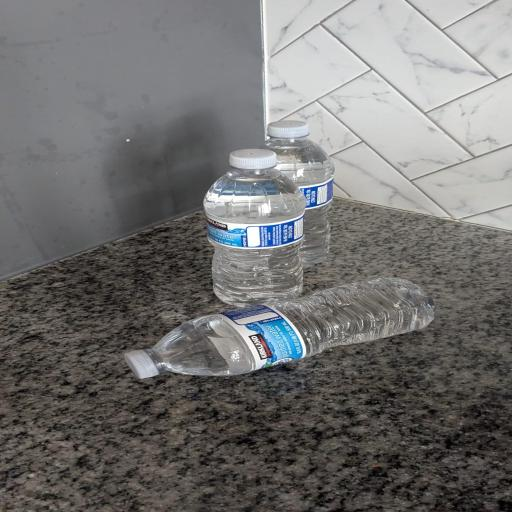waterbottle: (126, 279, 434, 378), (204, 150, 305, 306), (262, 121, 334, 267)
